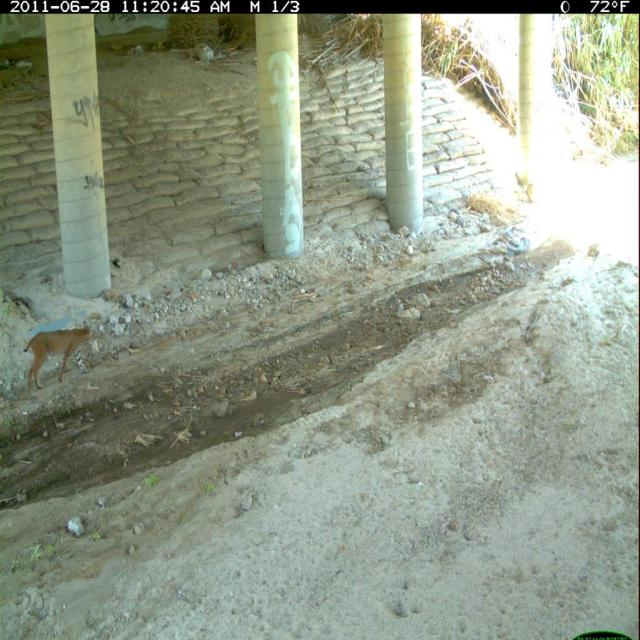bobcat: (21, 318, 99, 394)
